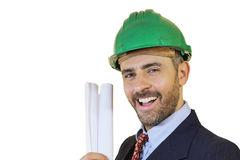helmet: (108, 10, 194, 71)
